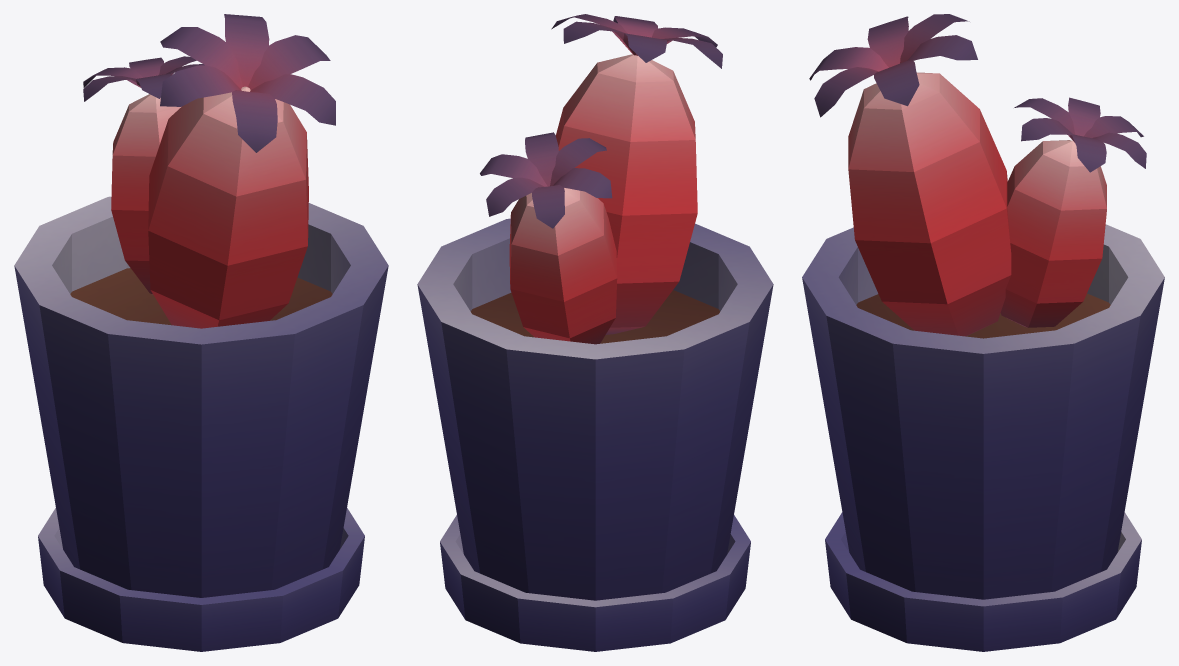
Rendered from plant_cactusBloom.fbx.
3 renders of one model, left to right at view 1: azimuth 30°, elevation 25°; view 2: azimuth 150°, elevation 25°; view 3: azimuth 270°, elevation 25°, orthographic. The views are drawn at different scales.
Parts seen in each view (by area): view 1: pot, bigCactus, plate, bigFlower, smalCactus, smallFlower; view 2: pot, bigCactus, plate, smalCactus, smallFlower, bigFlower; view 3: pot, bigCactus, plate, smalCactus, bigFlower, smallFlower.
Boxes of the visible parts, x1,y1,x2,y2 form: pot: (14, 196, 388, 597); bigCactus: (148, 86, 308, 328); plate: (38, 508, 364, 651); bigFlower: (160, 14, 335, 152); smalCactus: (111, 94, 180, 294); smallFlower: (83, 56, 204, 101); pot: (417, 218, 773, 600); bigCactus: (555, 54, 697, 334); plate: (440, 515, 750, 651); smalCactus: (509, 188, 617, 344); smallFlower: (480, 132, 612, 228); bigFlower: (551, 14, 722, 68); pot: (802, 224, 1164, 599); bigCactus: (848, 72, 1011, 336); plate: (825, 512, 1141, 651); smalCactus: (1000, 140, 1106, 327); bigFlower: (809, 14, 977, 117); smallFlower: (1014, 97, 1146, 172).
Bounding box in the file's own units: 11.03 × 18.67 × 11.03.
